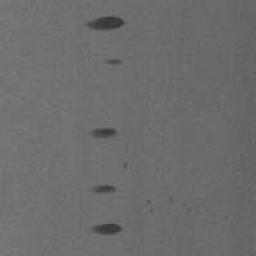Oil spot: (79, 14, 127, 32), (88, 221, 124, 238), (87, 125, 119, 141), (86, 183, 119, 196), (101, 58, 124, 68), (146, 197, 155, 215), (182, 202, 193, 214), (120, 161, 129, 170), (168, 195, 175, 205)
